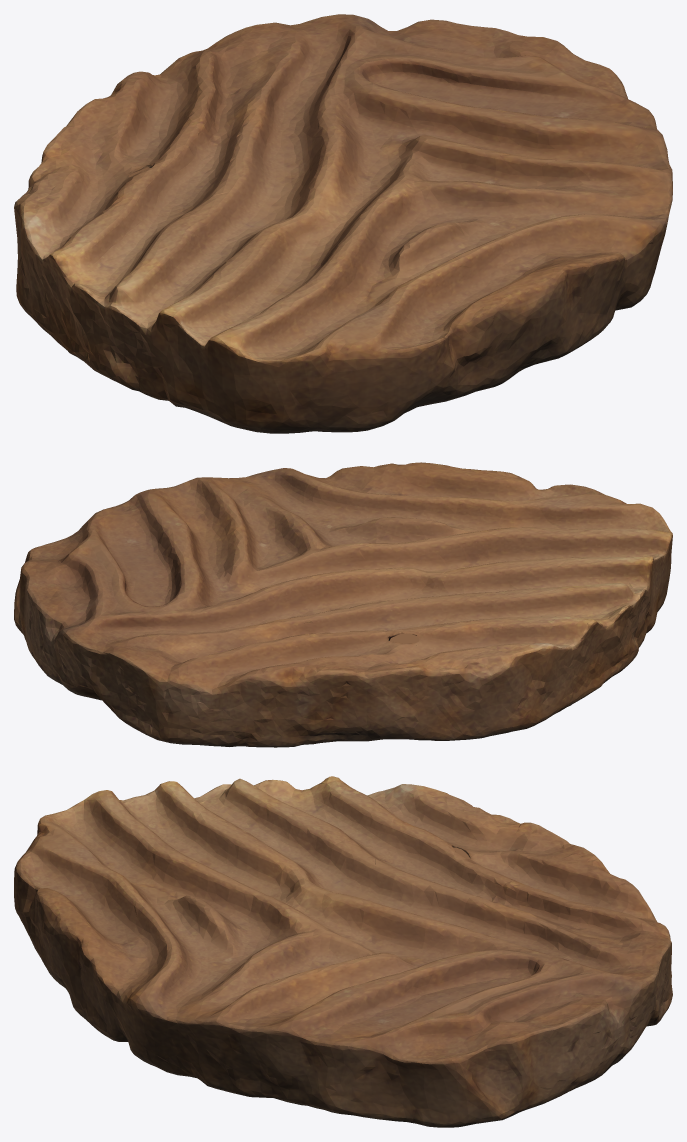
3 renders of one model, top to bottom at view 1: azimuth 30°, elevation 25°; view 2: azimuth 150°, elevation 25°; view 3: azimuth 270°, elevation 25°, orthographic. The views are drawn at different scales.
Visible parts, largest first — view 1: world; view 2: world; view 3: world.
Boxes of the visible parts, box(x1,y1,x2,y2) form: world: box(14, 14, 672, 433); world: box(14, 462, 672, 747); world: box(14, 776, 672, 1127).
Size of the model in its own units: 1.19 by 0.183 by 1.2.
2 materials, 1 textured.
